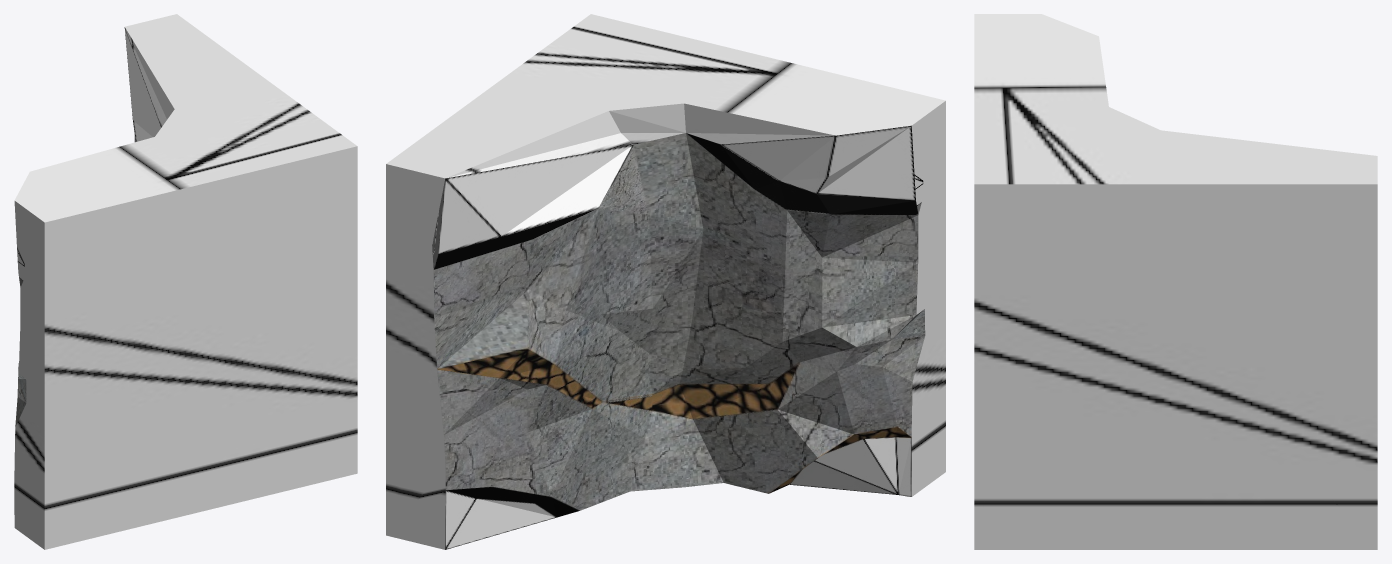
The model's file is EspacioPirateriaEsquinaCierreInteriorAltoNI.gltf.
The picture shows the model from 3 angles, left to right: view 1: azimuth 30°, elevation 25°; view 2: azimuth 150°, elevation 25°; view 3: azimuth 270°, elevation 25°; orthographic projection. The views are drawn at different scales.
Visible parts, largest first — view 1: Cubo.31; view 2: Cubo.31; view 3: Cubo.31.
Part boxes in pixels (bbox=[...]): Cubo.31: bbox=[14, 14, 357, 549]; Cubo.31: bbox=[386, 14, 945, 549]; Cubo.31: bbox=[974, 14, 1377, 549].
Size of the model in its own units: 2 by 2 by 2.
Materials: 1 (1 with a texture image).
